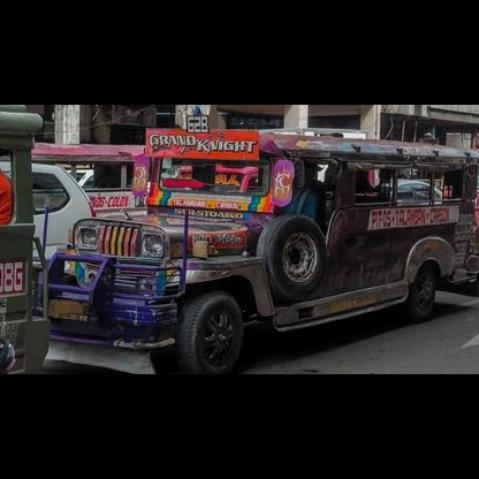jeepney: (67, 130, 479, 367)
